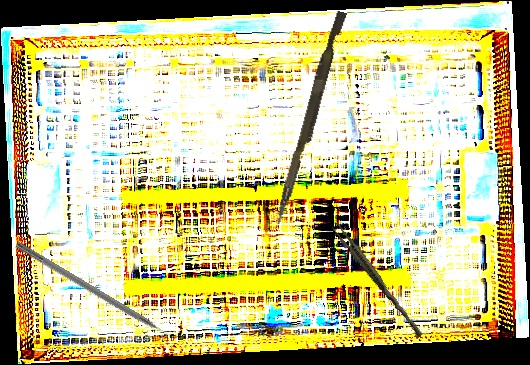Hook Surgical: (14, 241, 179, 346)
Pusher: (274, 9, 347, 227)
Tissue Forceps: (328, 222, 428, 339)
